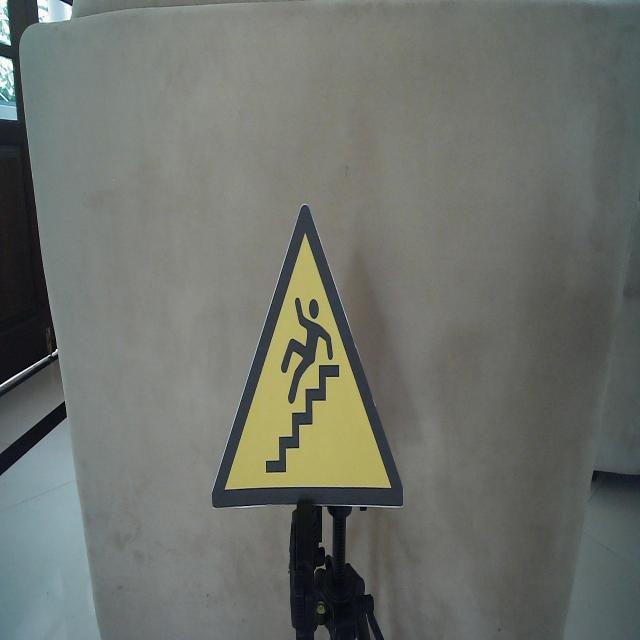stairs: (210, 200, 404, 513)
